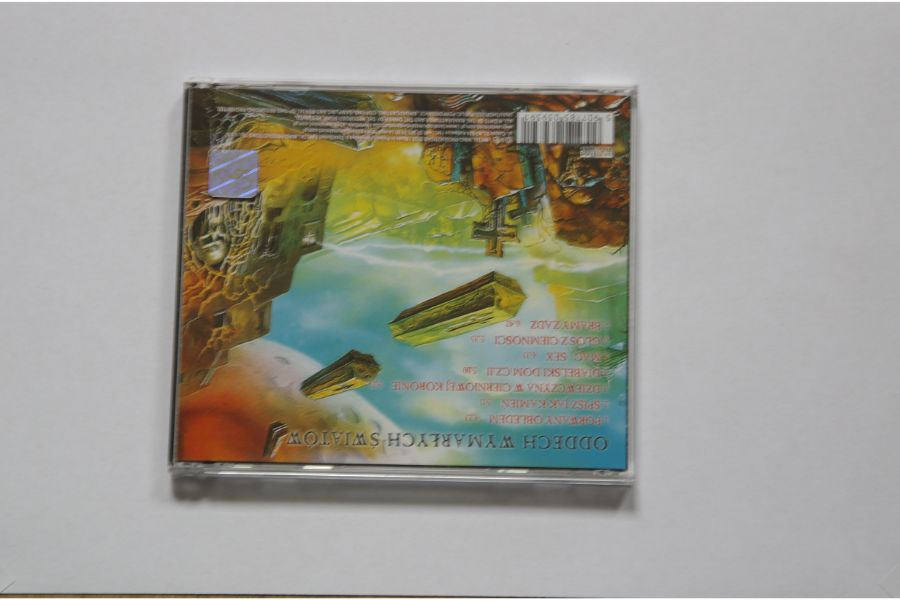album: (168, 79, 635, 486)
